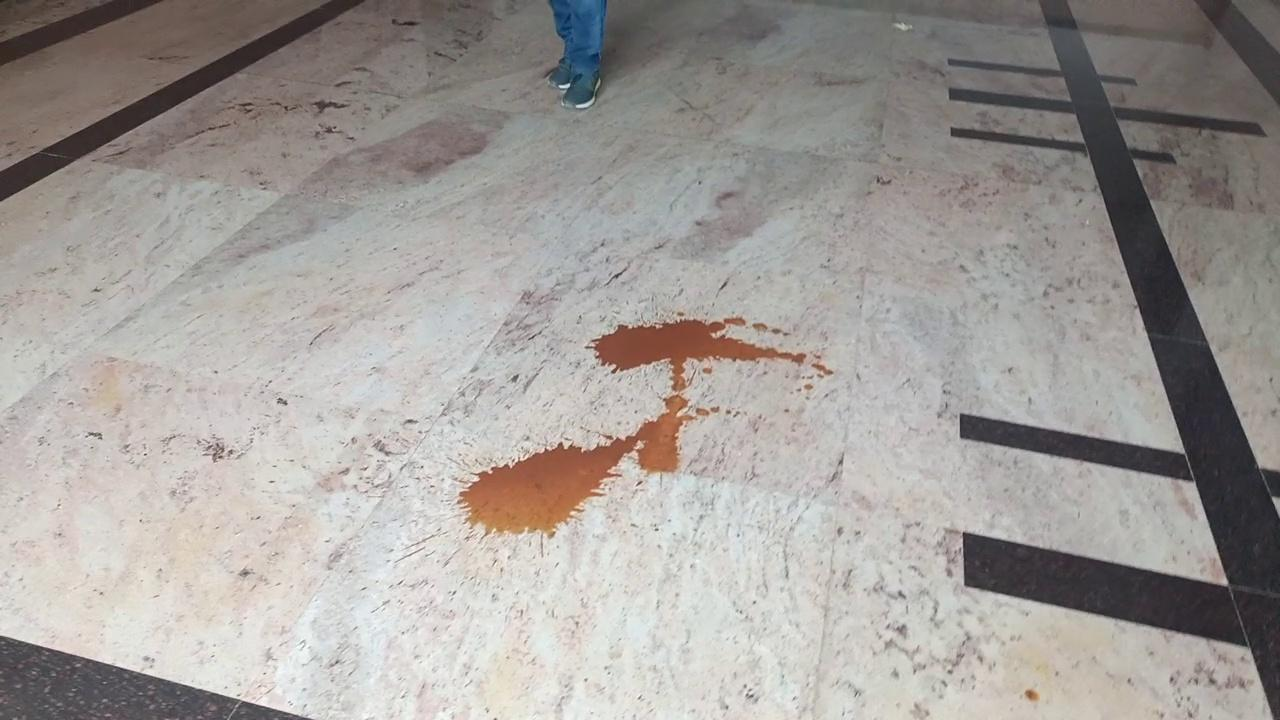dirty_floor: (467, 307, 832, 572)
